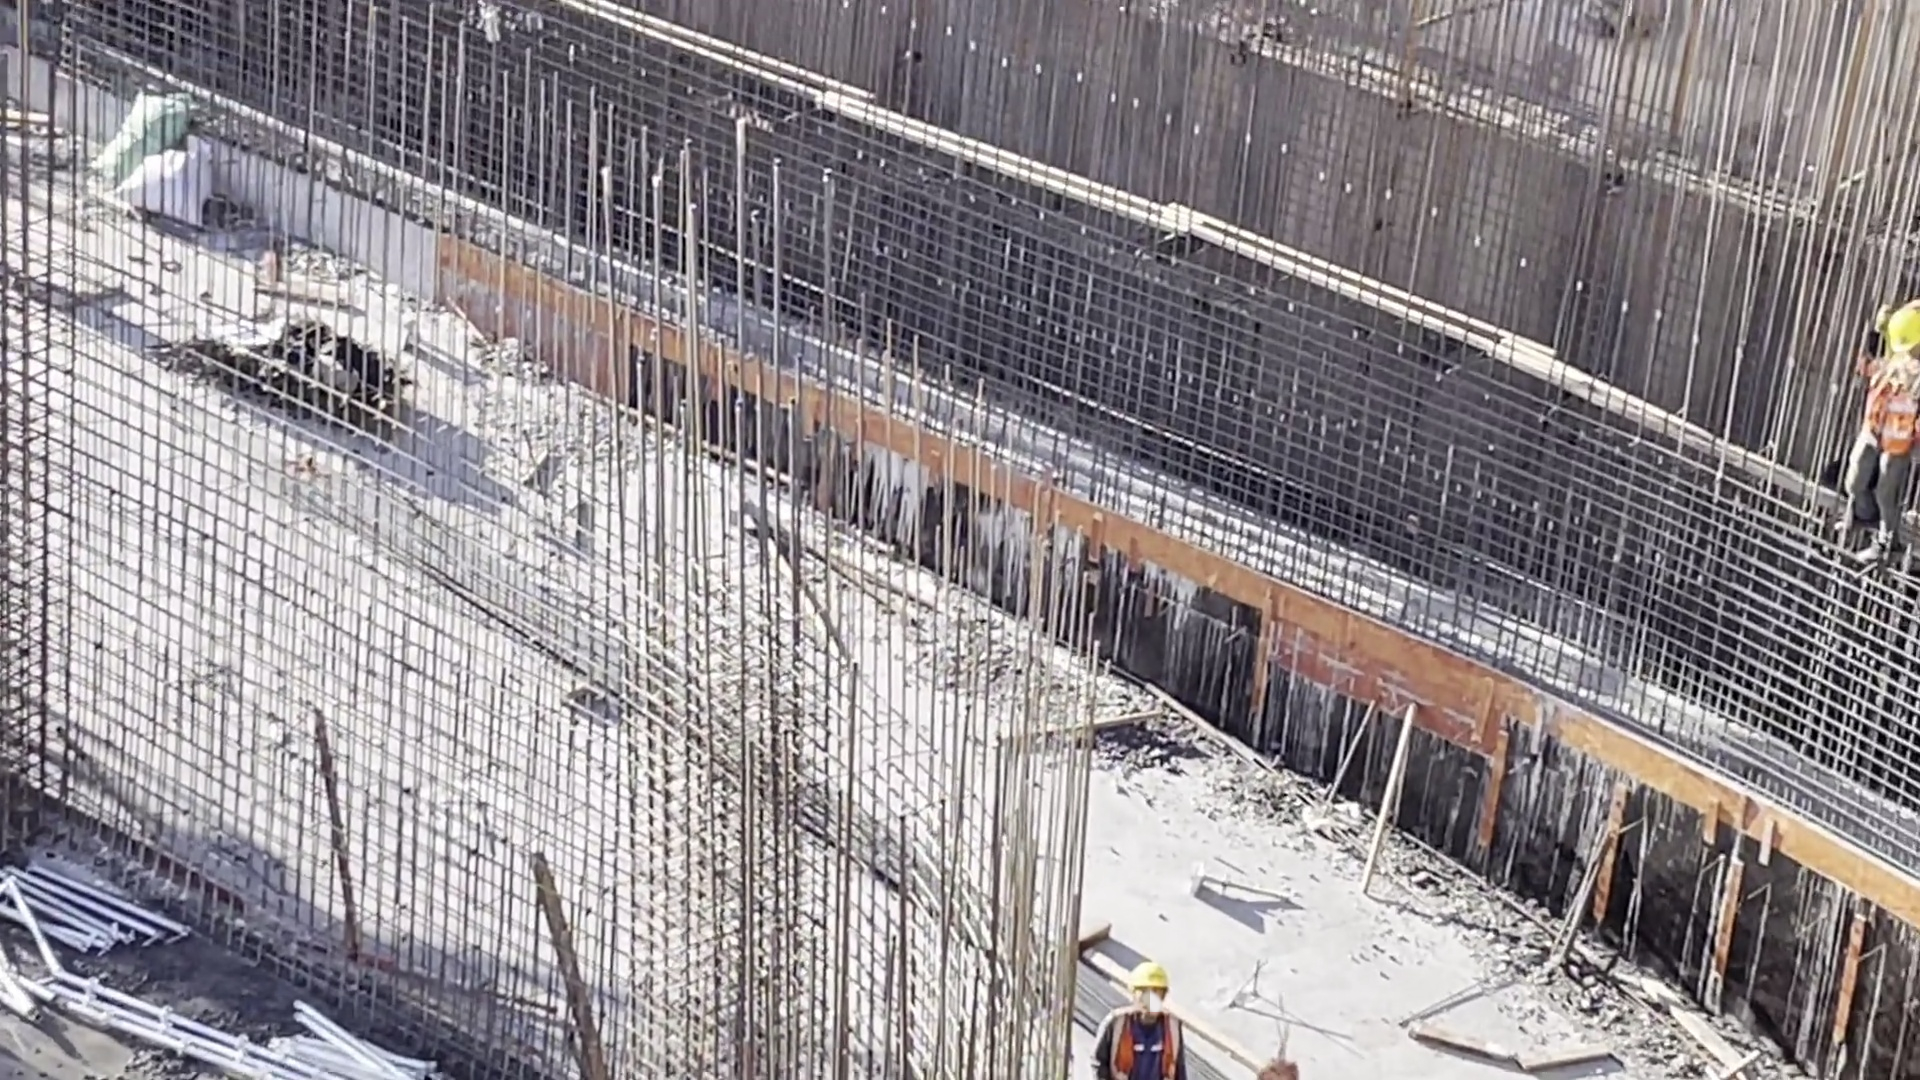helmet: (1137, 968, 1171, 1024), (1885, 305, 1920, 358)
person: (1849, 291, 1920, 589), (1101, 950, 1194, 1080)
vest: (1874, 365, 1917, 460), (1120, 1015, 1177, 1080)
